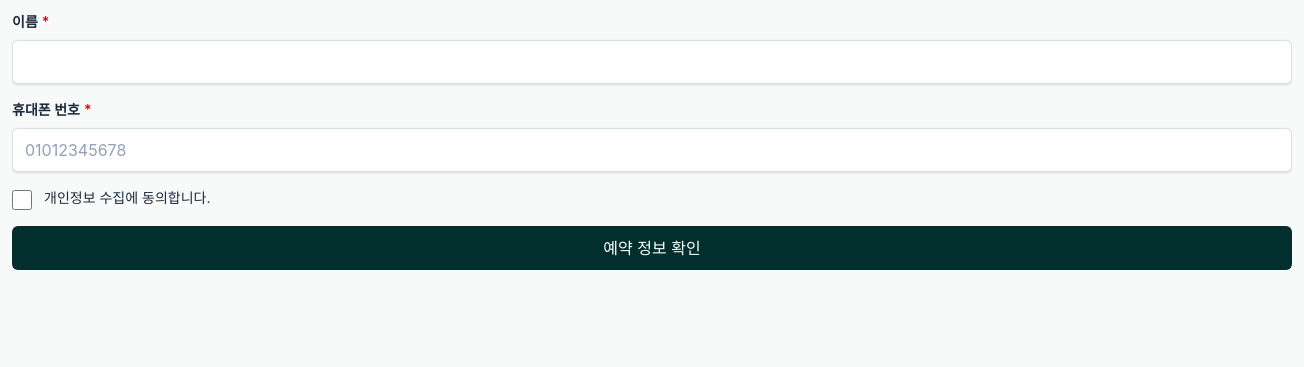
Test: ContactInfoFormExample › validates required customer contact fields
Click the button "예약 정보 확인" at [652, 248], box x1=12 y1=226 x2=1292 y2=270
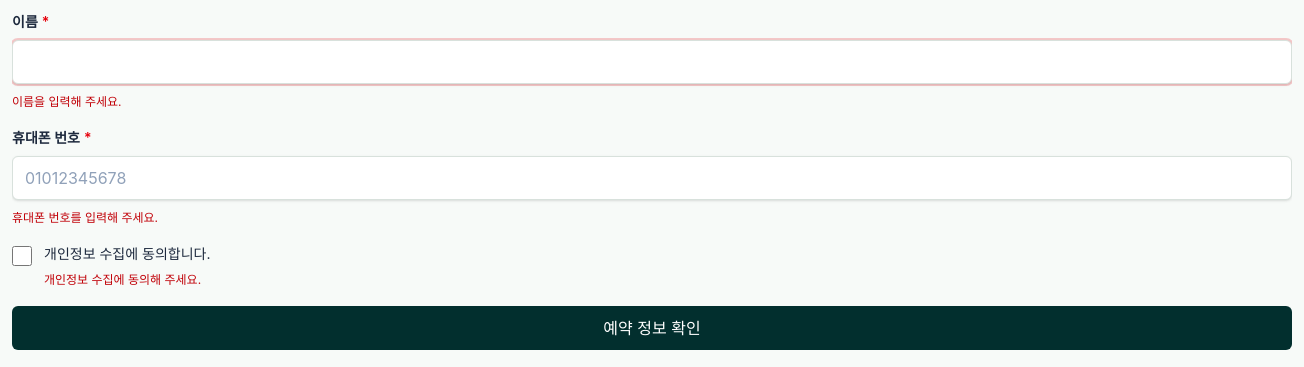
Expected: the text "이름을 입력해 주세요." is shown, x1=12 y1=94 x2=122 y2=109
Expected: the text "휴대폰 번호를 입력해 주세요." is shown, x1=12 y1=210 x2=158 y2=225
